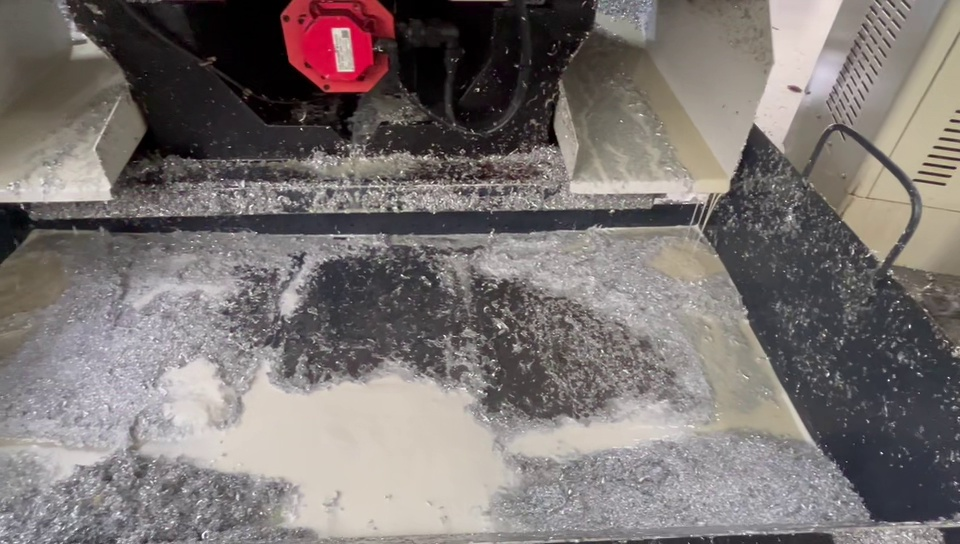iron_scrap: (511, 448, 860, 531), (3, 457, 294, 537), (5, 310, 149, 451), (491, 231, 734, 311), (46, 232, 282, 307), (128, 165, 286, 219), (639, 315, 710, 416), (153, 312, 265, 376)
